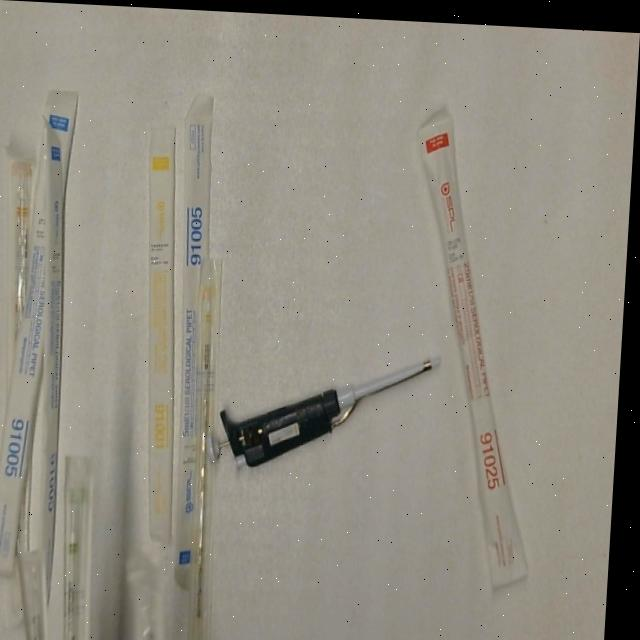Serelogical Pipet 1 mL - Sealed: (128, 111, 200, 550), (184, 247, 238, 640)
Serelogical Pipet 10 mL - Sealed: (0, 143, 44, 377)
Serelogical Pipet 2 mL - Sealed: (60, 450, 108, 640)
Serelogical Pipet 25 mL - Sealed: (395, 99, 559, 593)
Serelogical Pipet 5 mL - Sealed: (0, 81, 85, 582), (160, 86, 235, 586), (22, 115, 83, 587)
Single Channel Pipettor: (206, 337, 455, 475)
